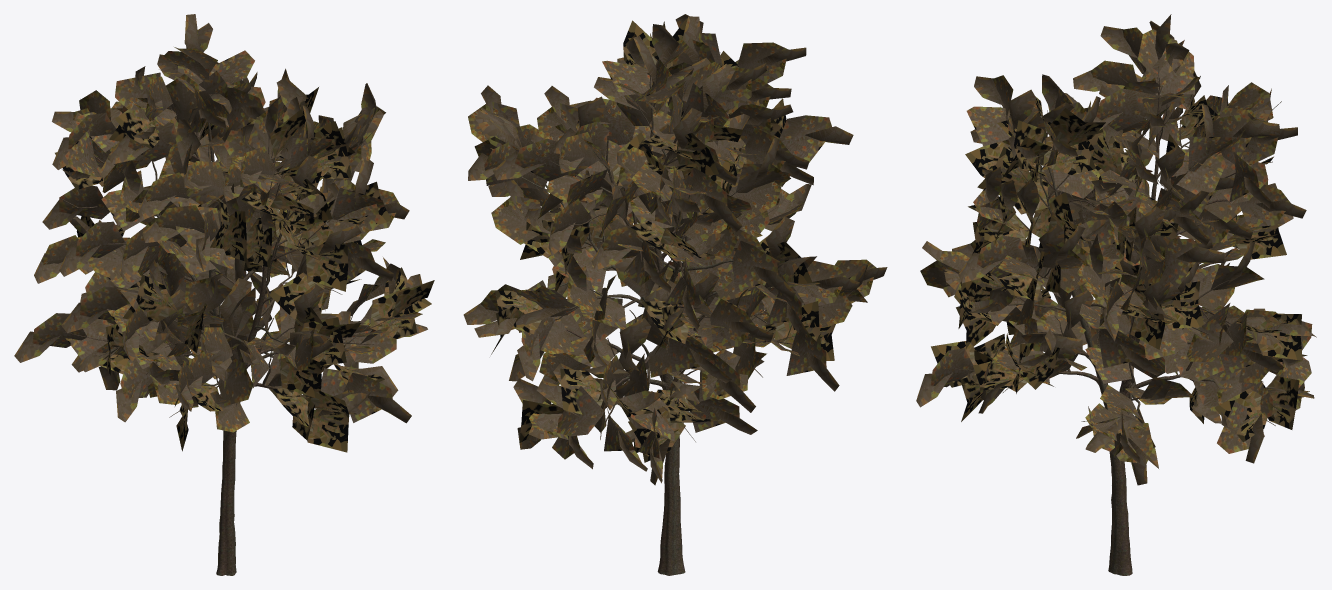
The model's file is SM_Alder_Fall_01b.fbx.
The picture shows the model from 3 angles, left to right: view 1: azimuth 30°, elevation 25°; view 2: azimuth 150°, elevation 25°; view 3: azimuth 270°, elevation 25°; orthographic projection. The views are drawn at different scales.
Parts seen in each view (by area): view 1: SM_Alder_Fall_01b_LOD0; view 2: SM_Alder_Fall_01b_LOD0; view 3: SM_Alder_Fall_01b_LOD0.
Boxes of the visible parts, bbox=[...] form: SM_Alder_Fall_01b_LOD0: bbox=[14, 14, 434, 575]; SM_Alder_Fall_01b_LOD0: bbox=[463, 14, 887, 575]; SM_Alder_Fall_01b_LOD0: bbox=[916, 14, 1316, 575].
Bounding box in the file's own units: 1656 × 1514 × 2283.
